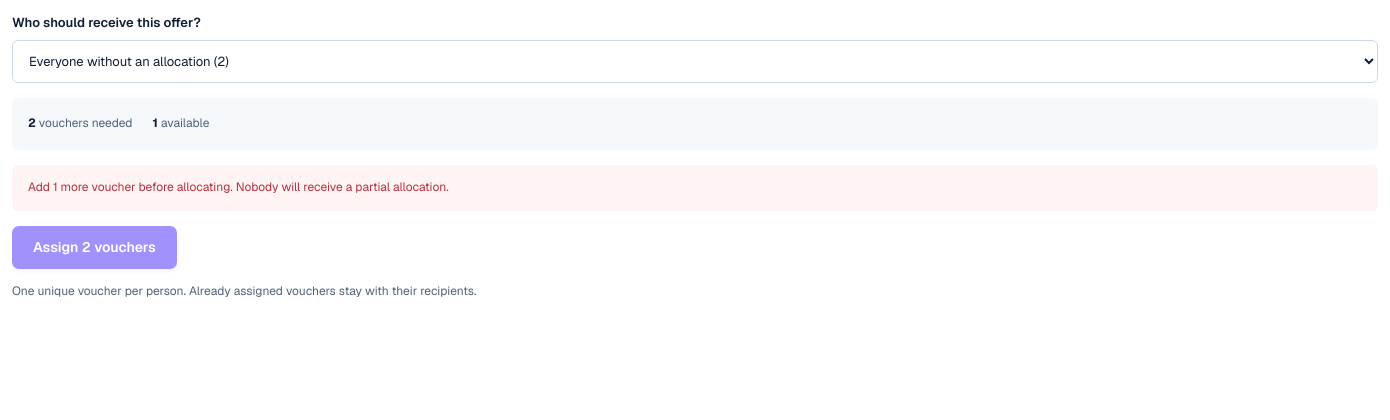
Scenario: credit inventory › prevents partial allocations and checks eligibility again when the roster refreshes
Later steps or results of the test are not shown.
Expected: the text "Add 1 more voucher" is shown, [12,165,1378,211]
Expected: the button "Assign 2 vouchers" is disabled, [12,226,177,269]
Select "Choose participants" in the dropdown at (695, 62), box [12,40,1378,83]
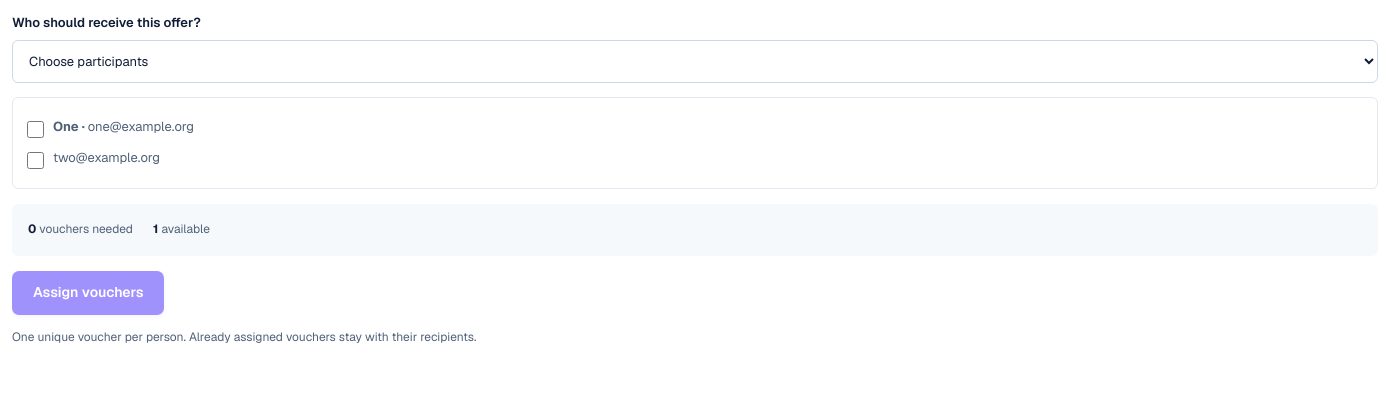
Click the checkbox labelled "One · one@example.org" at (36, 130), box [27,121,44,138]
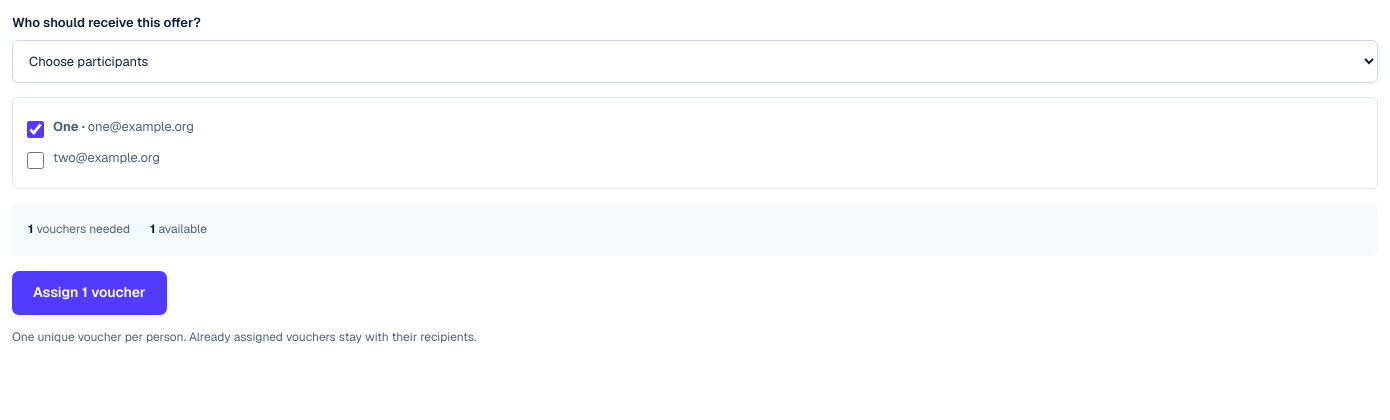
Click the checkbox labelled "two@example.org" at (36, 161), box [27,152,44,169]
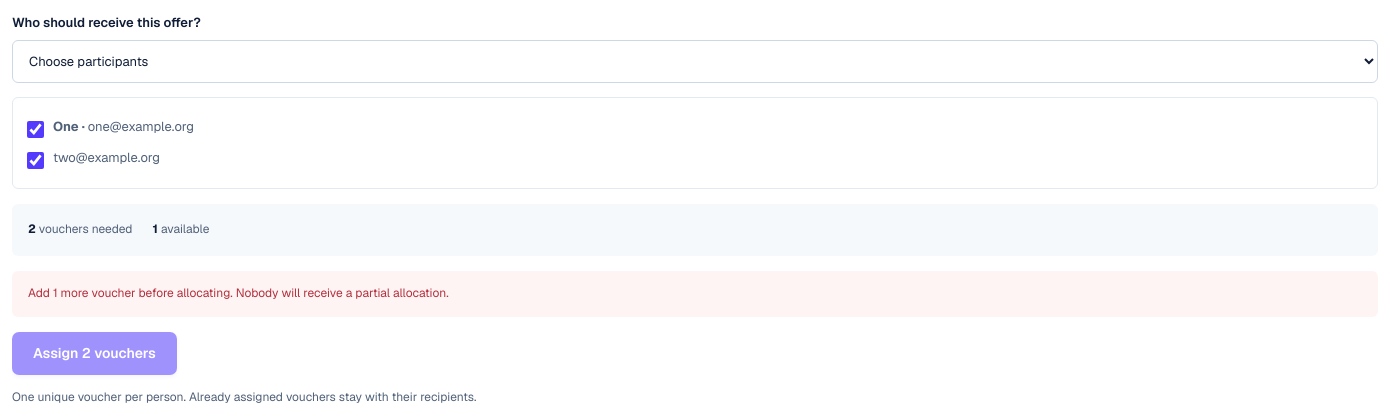
Expected: the button "Assign 2 vouchers" is disabled, [12,332,177,375]
